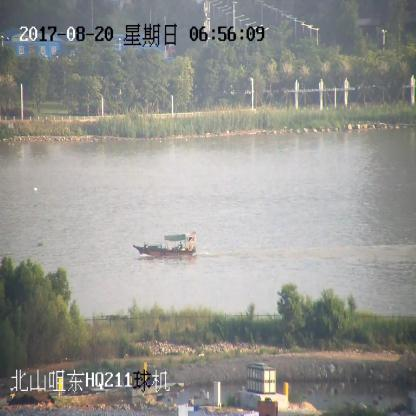Fishing Boat: (134, 233, 197, 258)
